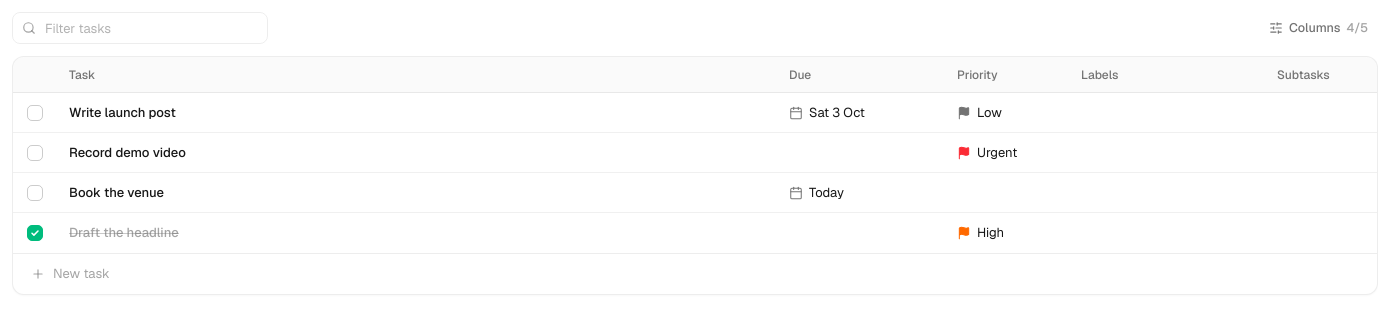
Test: filtering › narrows rows by title and says so when nothing matches
In the field labelled "Filter tasks": coordinates (140, 28) x1=12 y1=12 x2=268 y2=44, type "VIDEO"
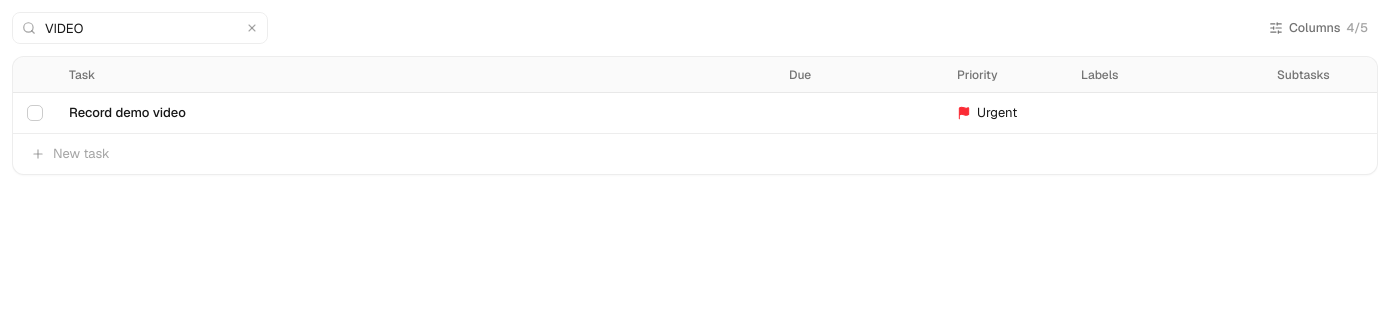
Replace the text in the field named "Filter tasks" with "nothing like this": coordinates (140, 28) x1=12 y1=12 x2=268 y2=44
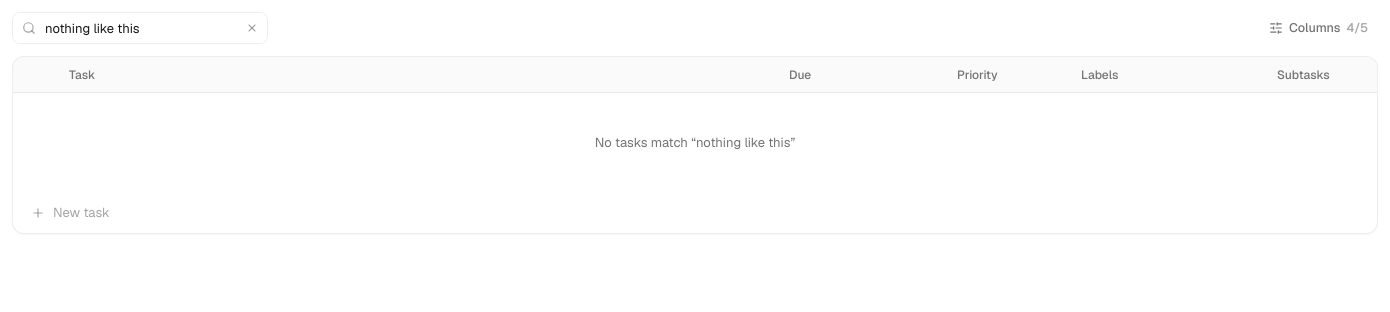
Expected: the text "No tasks match “nothing like this”" is shown, x1=595 y1=134 x2=795 y2=151
